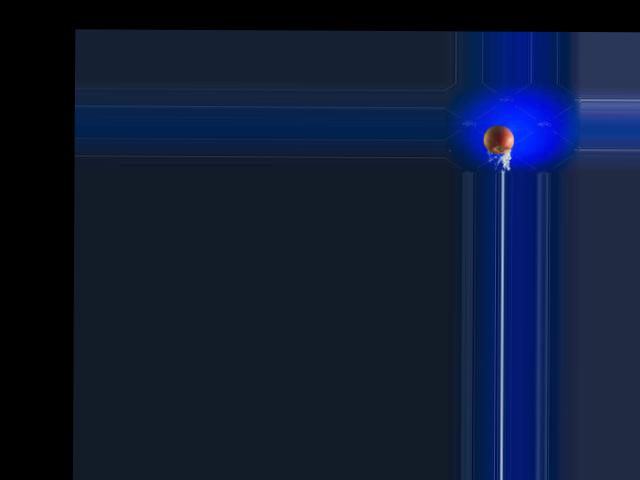tomato: (482, 125, 513, 153)
